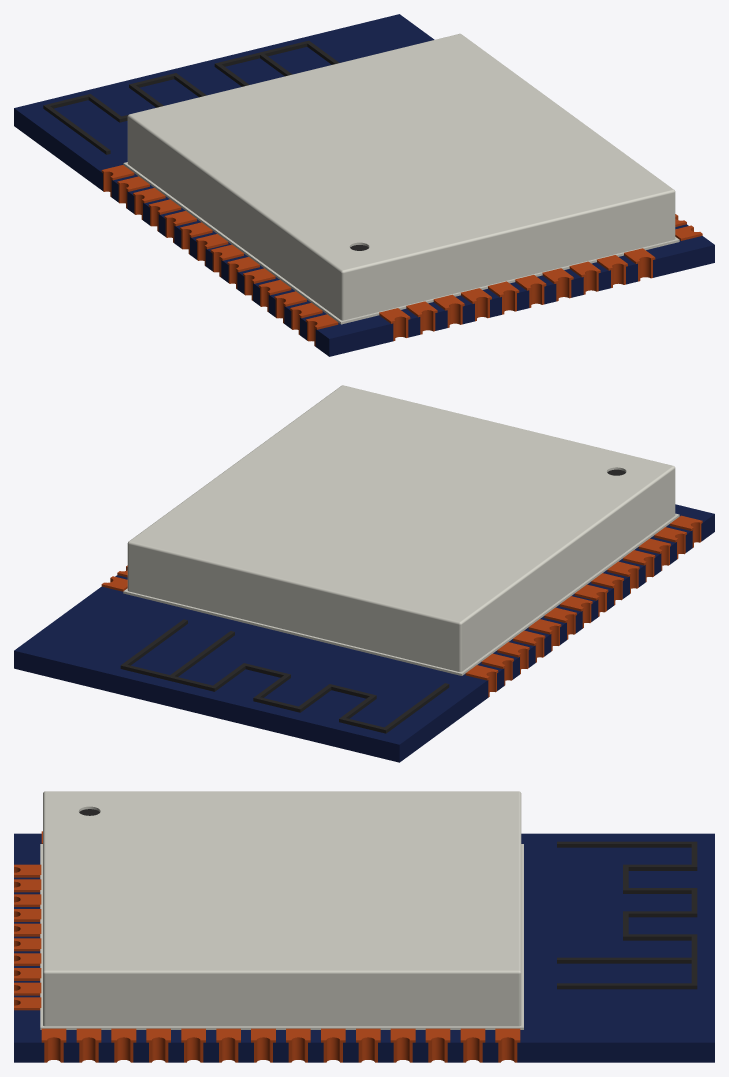
File: RF_Module__ESP32-WROOM-32.glb
3 views of the same model, one above another, from view 1: azimuth 30°, elevation 25°; view 2: azimuth 150°, elevation 25°; view 3: azimuth 270°, elevation 25° (orthographic). The views are drawn at different scales.
Visible parts, largest first — view 1: ESP32-WROOM-32; view 2: ESP32-WROOM-32; view 3: ESP32-WROOM-32.
Part boxes in pixels (bbox=[...]): ESP32-WROOM-32: bbox=[14, 14, 714, 356]; ESP32-WROOM-32: bbox=[14, 385, 714, 762]; ESP32-WROOM-32: bbox=[14, 791, 714, 1062].
Bounding box in the file's own units: 0.018 × 0.0031 × 0.0255.
